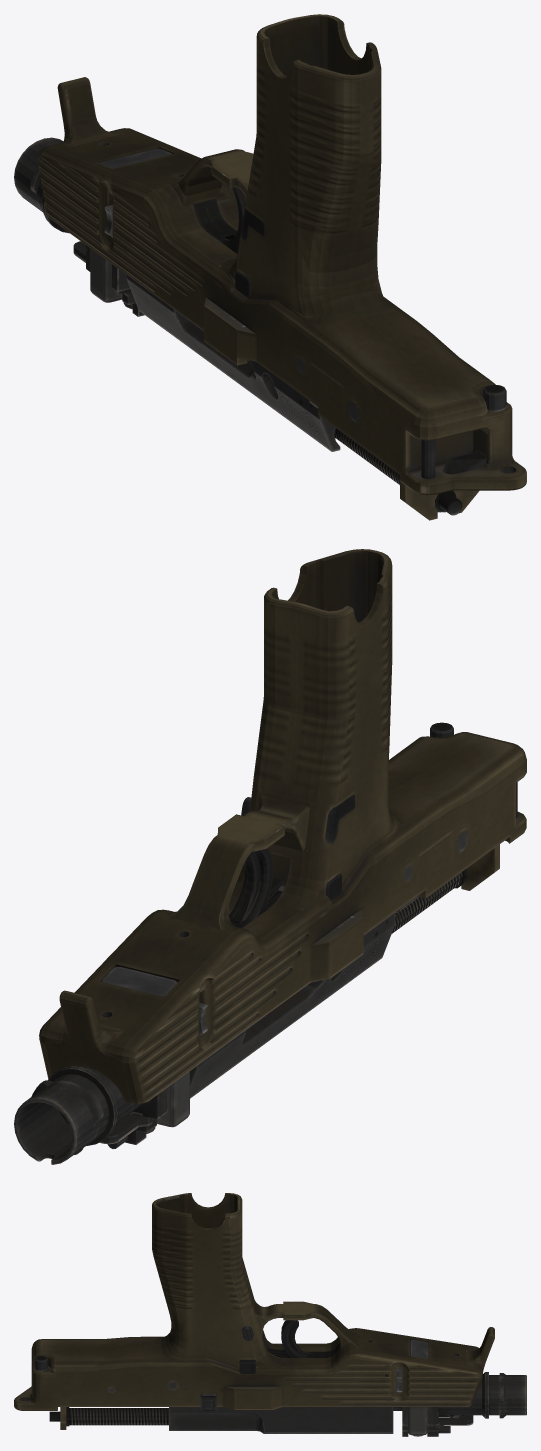
3 renders of one model, top to bottom at view 1: azimuth 30°, elevation 25°; view 2: azimuth 150°, elevation 25°; view 3: azimuth 270°, elevation 25°, orthographic. The views are drawn at different scales.
Visible parts, largest first — view 1: TW_5e00903ae9dc277128008b87_PZ_Import; view 2: TW_5e00903ae9dc277128008b87_PZ_Import; view 3: TW_5e00903ae9dc277128008b87_PZ_Import.
Part boxes in pixels (x1,y1,x2,y2): TW_5e00903ae9dc277128008b87_PZ_Import: [14, 14, 526, 520]; TW_5e00903ae9dc277128008b87_PZ_Import: [14, 549, 526, 1164]; TW_5e00903ae9dc277128008b87_PZ_Import: [14, 1193, 526, 1436].
Size of the model in its own units: 0.0268 by 0.1751 by 0.087.
1 material, 1 textured.
